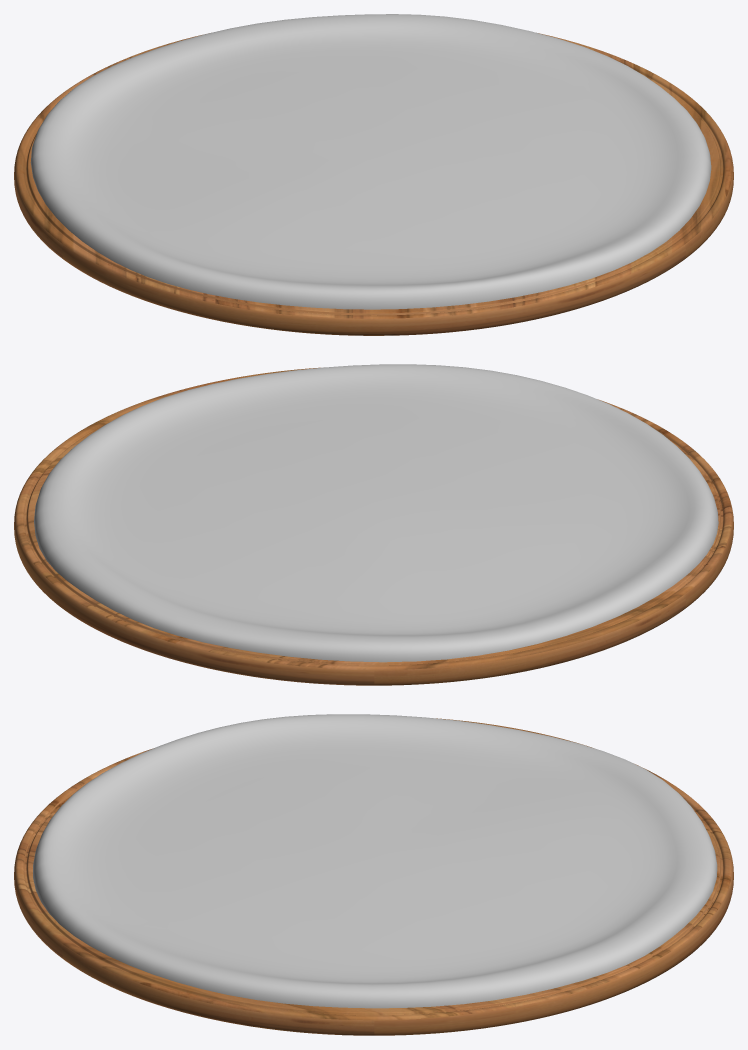
Rendered from pizza.gltf.
The picture shows the model from 3 angles, top to bottom: view 1: azimuth 30°, elevation 25°; view 2: azimuth 150°, elevation 25°; view 3: azimuth 270°, elevation 25°; orthographic projection.
Parts seen in each view (by area): view 1: Cylinder001, Cylinder002; view 2: Cylinder001, Cylinder002; view 3: Cylinder001, Cylinder002.
Boxes of the visible parts, x1,y1,x2,y2 form: Cylinder001: [30, 14, 711, 309]; Cylinder002: [14, 33, 733, 335]; Cylinder001: [34, 364, 718, 662]; Cylinder002: [14, 367, 733, 685]; Cylinder001: [33, 714, 717, 1008]; Cylinder002: [14, 718, 733, 1035].
Size of the model in its own units: 0.4169 by 0.0215 by 0.4169.
